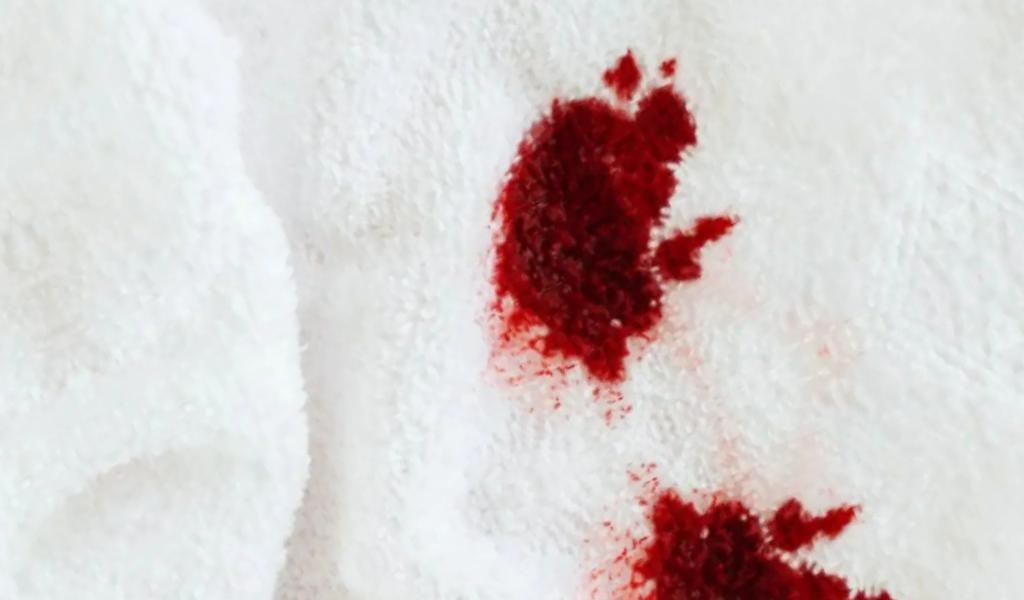stain: (473, 44, 747, 431), (580, 459, 902, 600)
